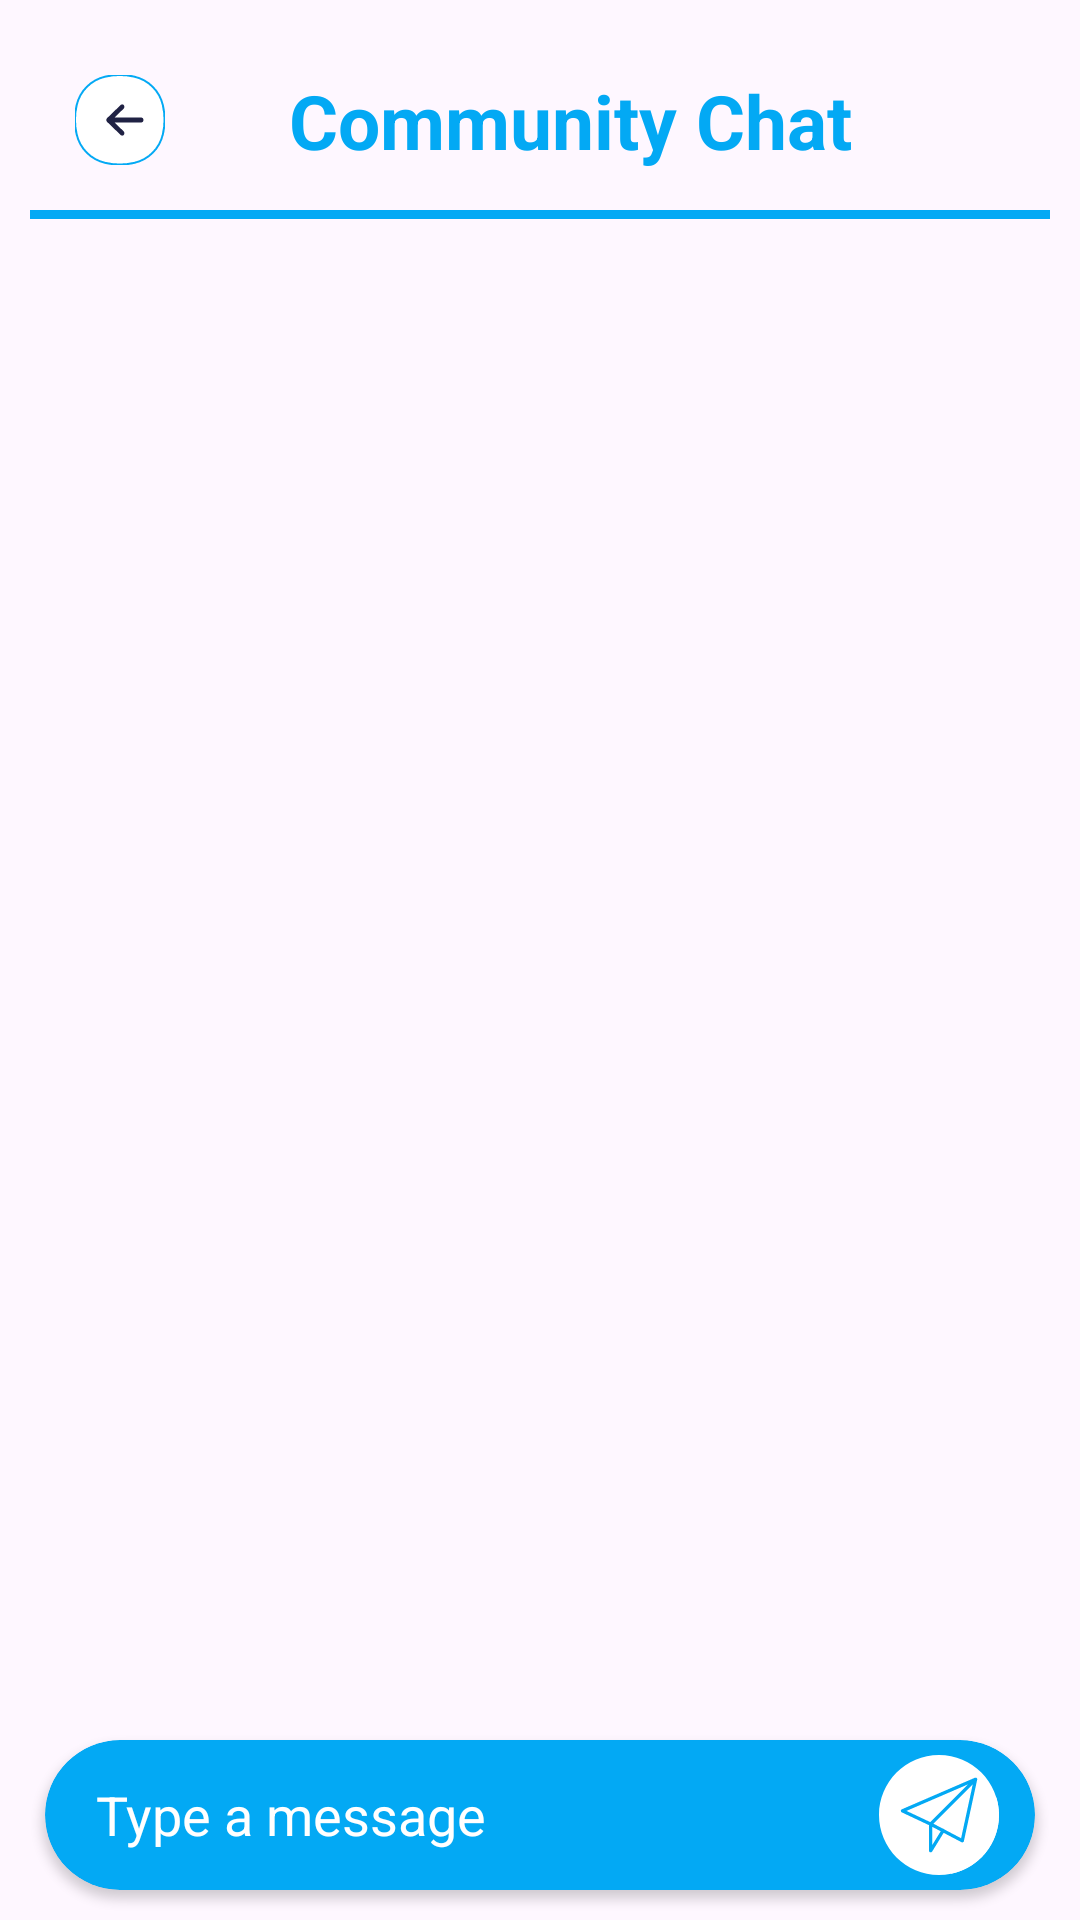

Screen size 1080 x 1920. Icon name, then its box in pixels as (x1, y1, x2, y2):
back: (75, 75, 165, 165)
send: (879, 1755, 999, 1875)
